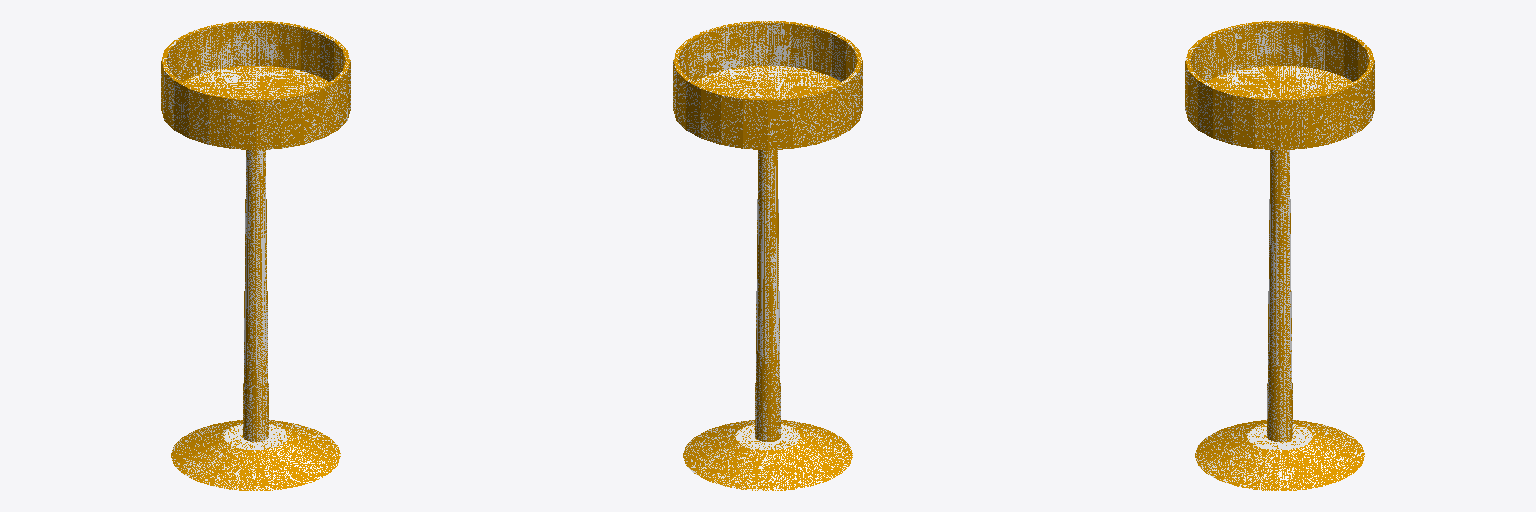
robot.urdf — my_object:
<?xml version="1.0" ?> 
<robot name="my_object" static="true">
  <link name="base_link">
  <inertial>
    <mass value="0.231" />
    <origin xyz="0 0 0.0" />
    <inertia ixx="1.0" ixy="0.0" ixz="0.0" iyy="1.0" iyz="0.0" izz="1.0"/>
  </inertial>
  <visual>
   <origin xyz="0 0 0.0" rpy="0 0 0" />
   <geometry>
     <mesh filename="package://cob_gazebo_objects/Media/models/glass_candleholder.dae"/>
   </geometry>
  </visual>
  <collision>
   <origin xyz="0 0 0.102" rpy="0 0 0" />
   <geometry>
     <box size="0.09 0.09 0.21" />
   </geometry>
  </collision>     
  </link>

<gazebo>
	<static>true</static>
</gazebo>
</robot>

--- Render facts (derived) ---
The picture shows the robot from 3 angles, left to right: view 1: azimuth 30°, elevation 25°; view 2: azimuth 150°, elevation 25°; view 3: azimuth 270°, elevation 25°; orthographic projection.
Model my_object with 1 links and 0 joints (none), rooted at base_link, posed all joints at 0.
Links seen in each view (by area): view 1: base_link; view 2: base_link; view 3: base_link.
Boxes of the visible links, x1,y1,x2,y2 form: base_link: [161, 21, 350, 490]; base_link: [673, 21, 862, 490]; base_link: [1185, 21, 1374, 490].
Bounding box of the posed robot: 0.0025 × 0.0025 × 0.0058 m (x, y, z).
Meshes: 1 distinct files referenced, 1 mesh visuals loaded (1 Collada DAE).